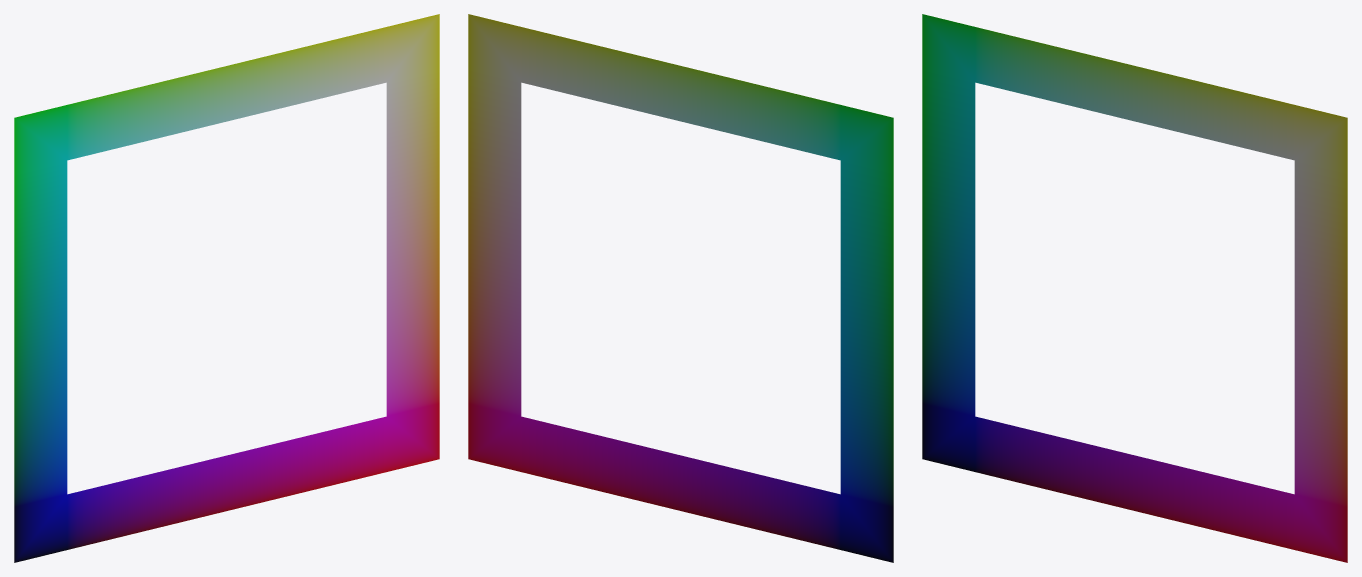
Rendered from frame.fbx.
3 renders of one model, left to right at view 1: azimuth 30°, elevation 25°; view 2: azimuth 150°, elevation 25°; view 3: azimuth 330°, elevation 25°, orthographic.
Visible parts, largest first — view 1: frame; view 2: frame; view 3: frame.
Boxes of the visible parts, box(x1,y1,x2,y2) form: frame: box(14, 14, 439, 562); frame: box(468, 14, 893, 562); frame: box(922, 14, 1347, 562).
Size of the model in its own units: 6.17 by 6.17 by 0.
